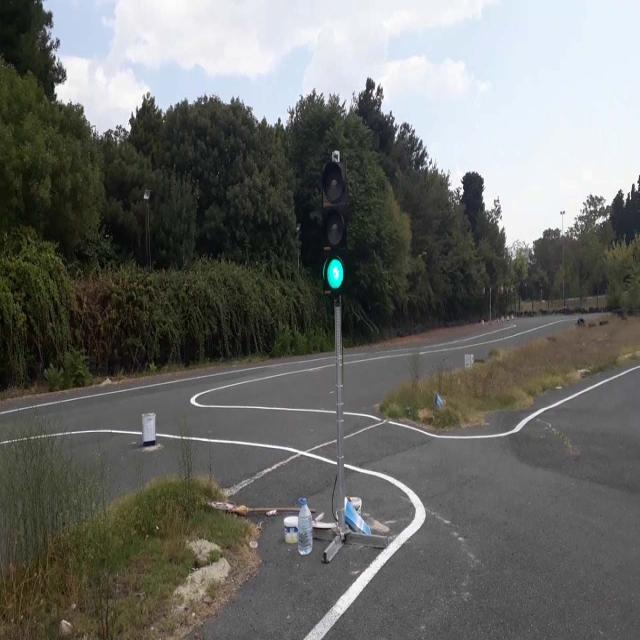yesil: (321, 156, 346, 292)
